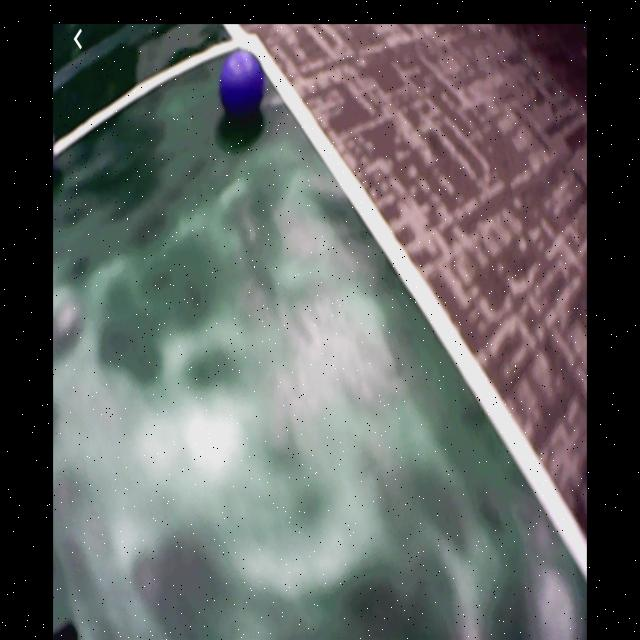ball: (220, 50, 267, 118)
